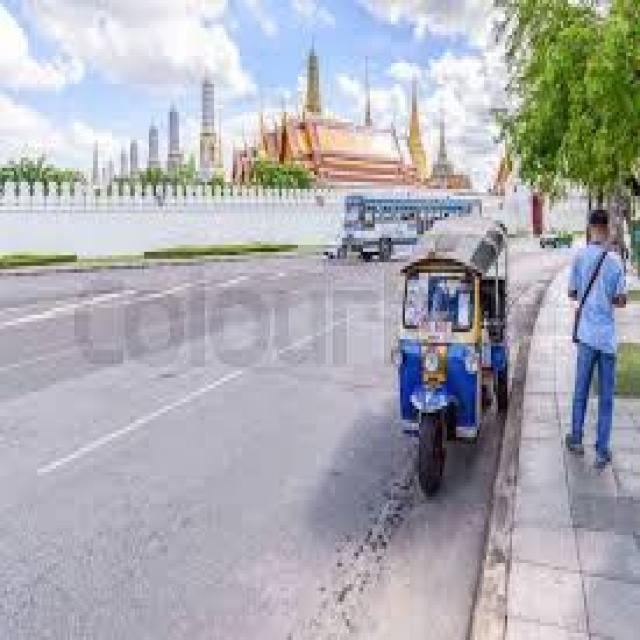bus: (316, 172, 490, 234)
tuktuk: (370, 249, 554, 567)
